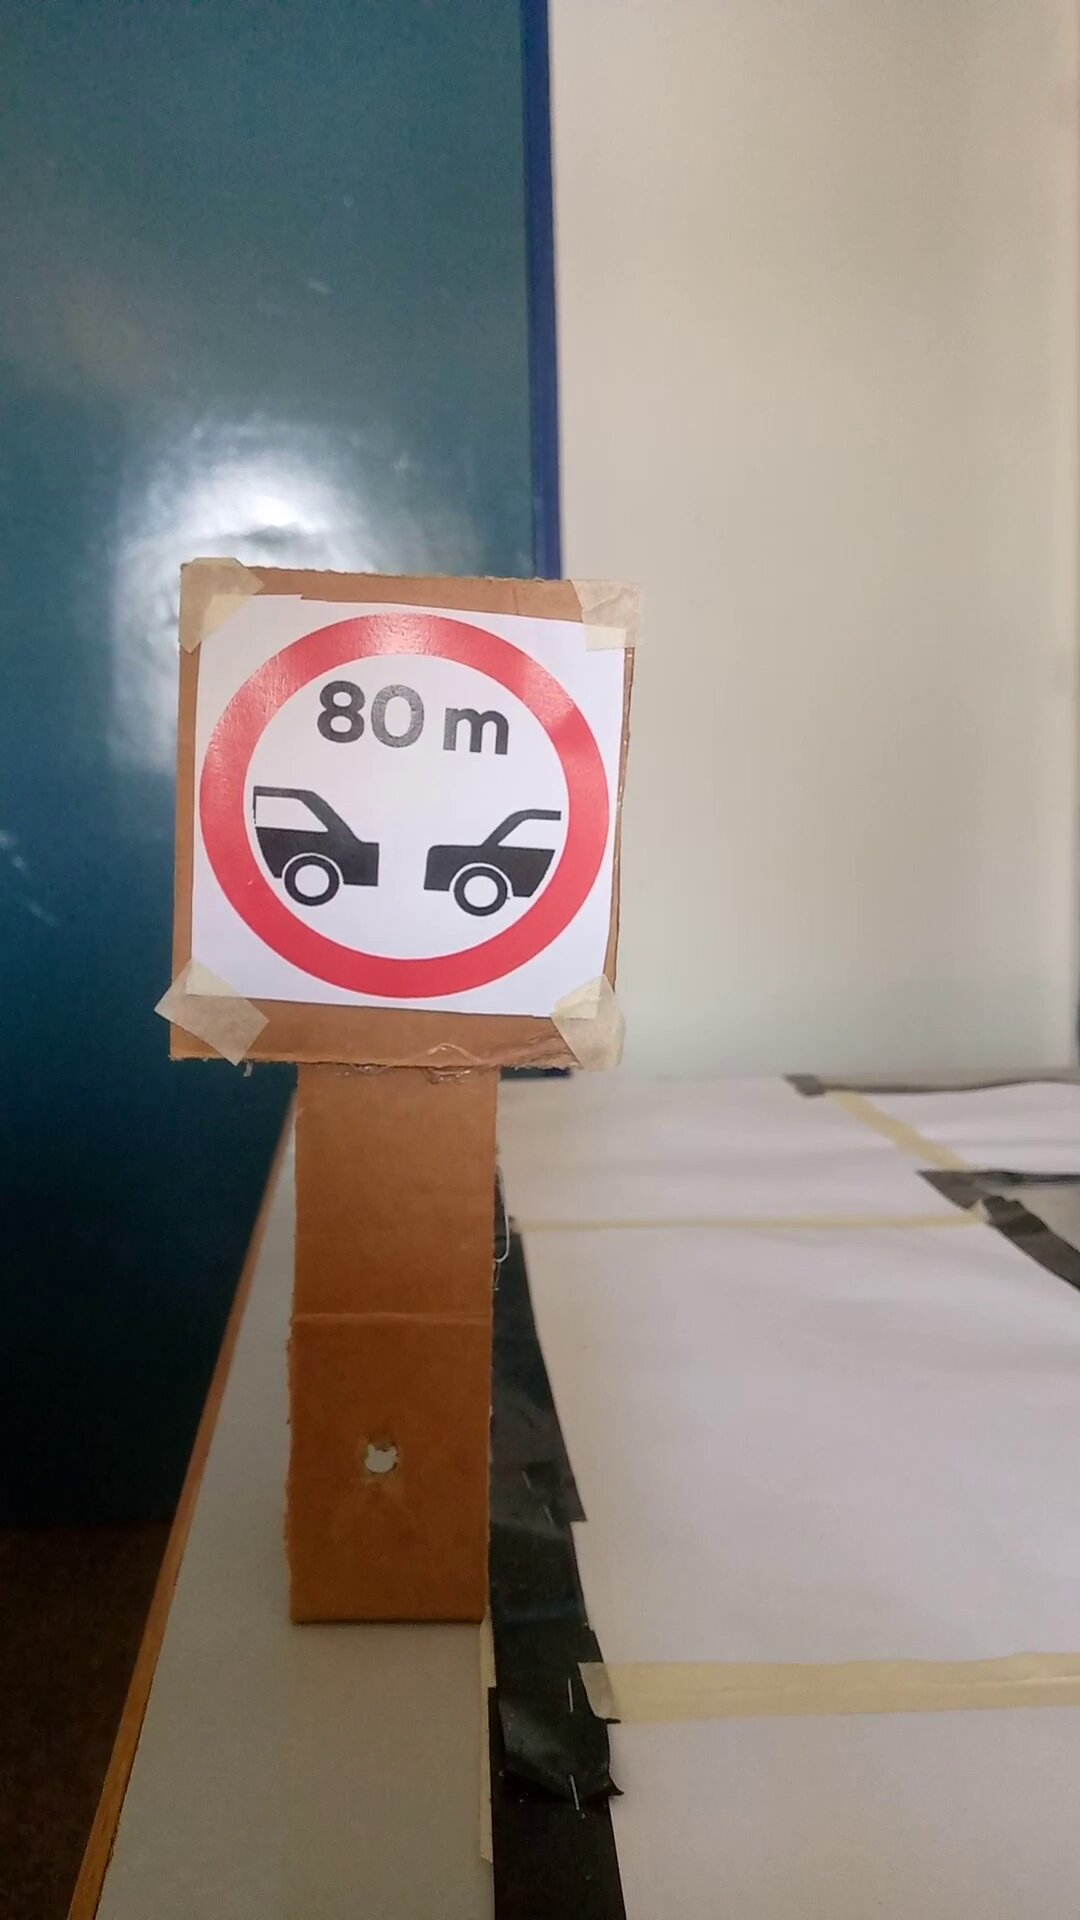panel001: (178, 560, 624, 1054)
